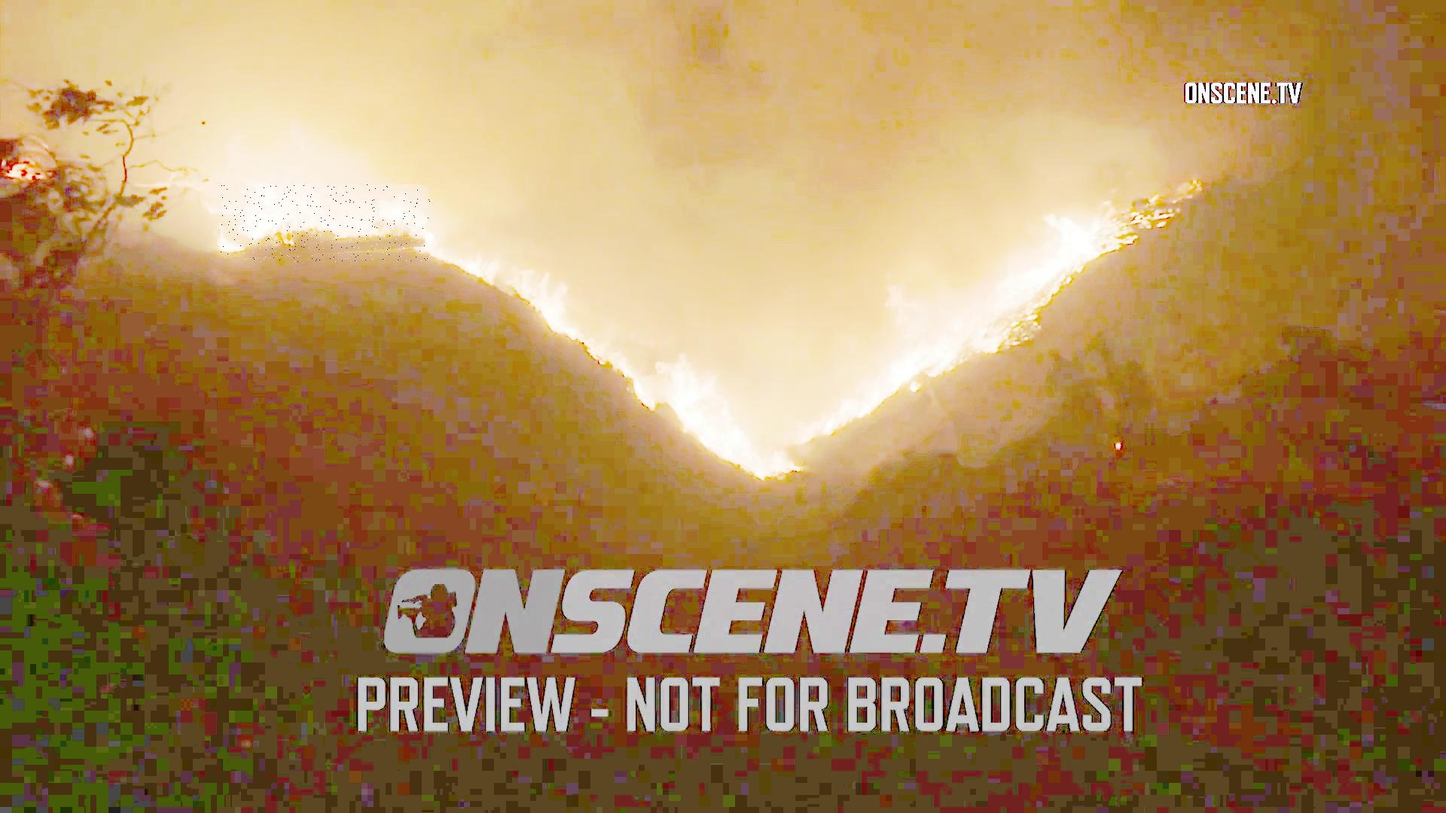fire: (221, 185, 430, 262)
